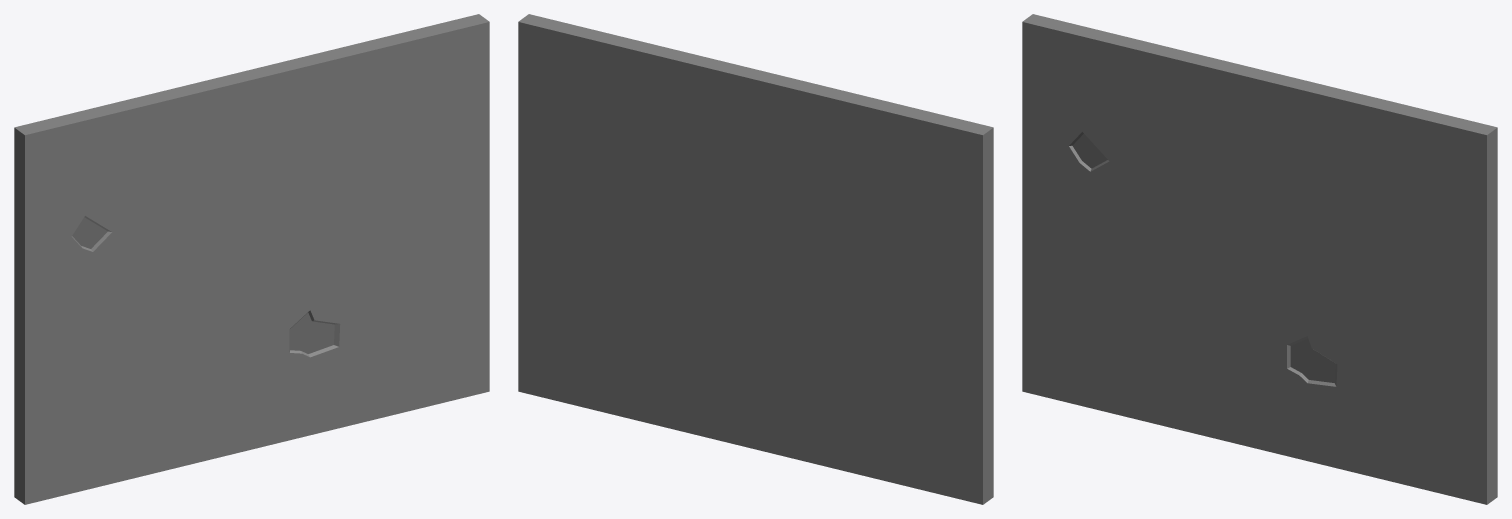
Rendered from Wall_03.fbx.
The picture shows the model from 3 angles, left to right: view 1: azimuth 30°, elevation 25°; view 2: azimuth 150°, elevation 25°; view 3: azimuth 330°, elevation 25°; orthographic projection.
Visible parts, largest first — view 1: Wall_03; view 2: Wall_03; view 3: Wall_03.
Part boxes in pixels (x1,y1,x2,y2): Wall_03: (14,14,489,504); Wall_03: (518,14,993,504); Wall_03: (1022,14,1497,504).
Size of the model in its own units: 500 by 380 by 20.
